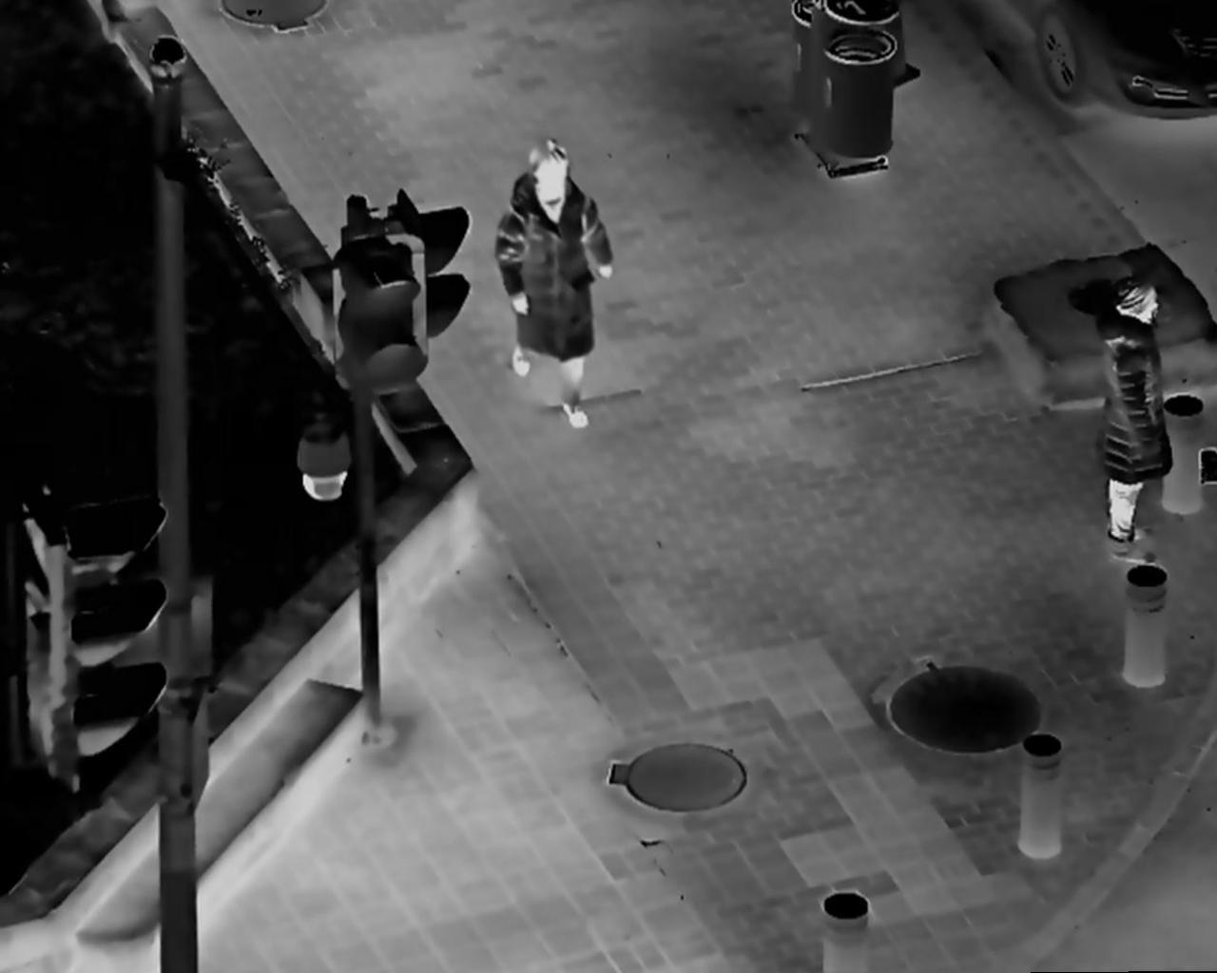person: (490, 136, 618, 426), (1092, 272, 1174, 551)
